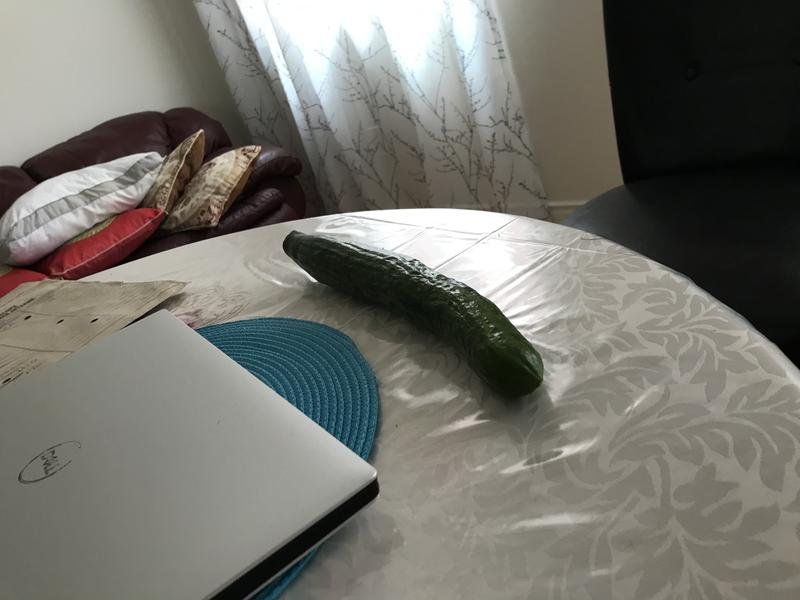cucumber: (276, 223, 555, 411)
